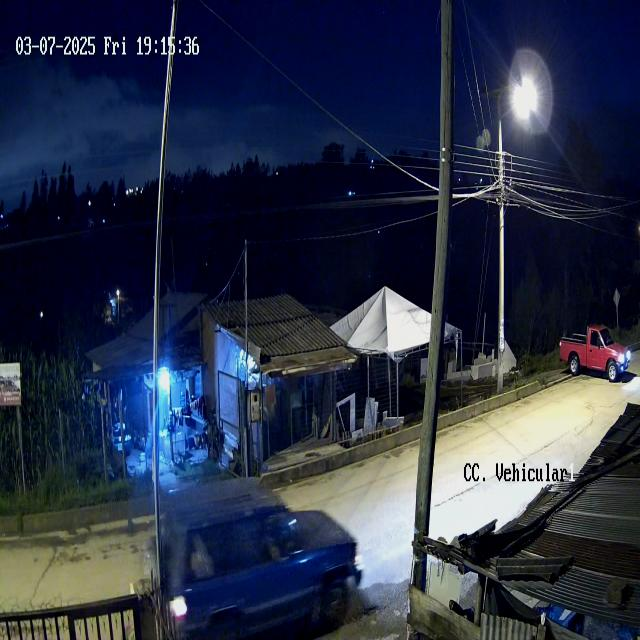CMT: (558, 323, 632, 383)
SUV: (158, 473, 364, 640)
